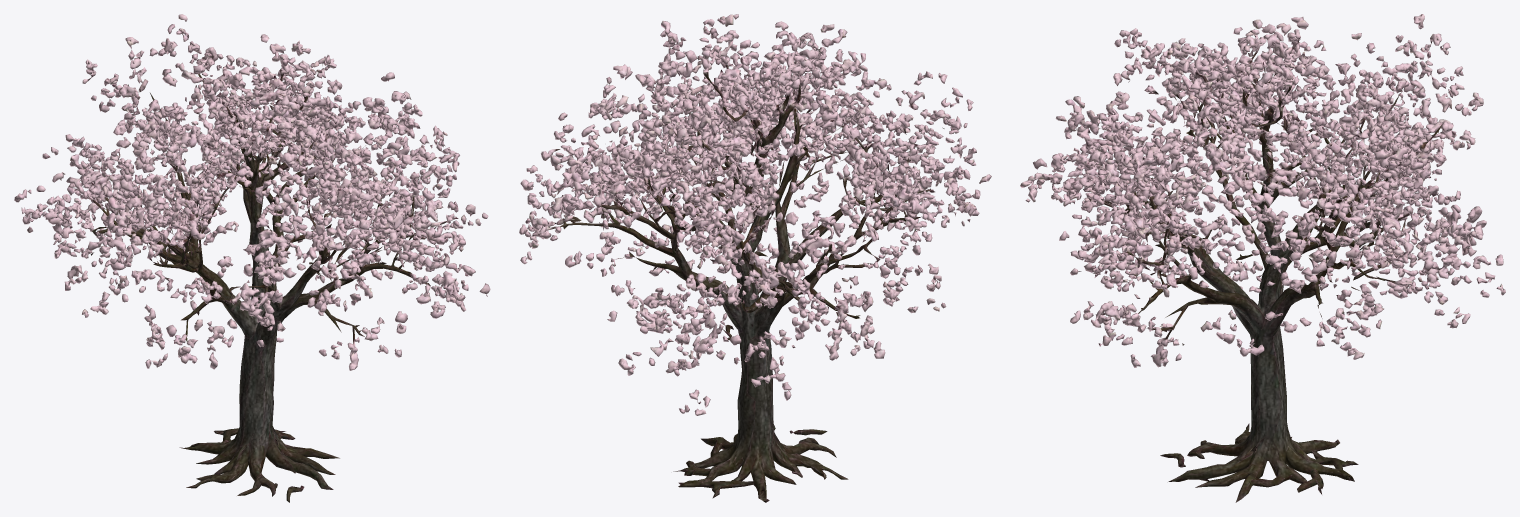
File: sakura_a.0.glb
3 views of the same model, side by side, from view 1: azimuth 30°, elevation 25°; view 2: azimuth 150°, elevation 25°; view 3: azimuth 270°, elevation 25° (orthographic). The views are drawn at different scales.
Parts seen in each view (by area): view 1: geometry_0; view 2: geometry_0; view 3: geometry_0.
Part boxes in pixels (x1,y1,x2,y2): geometry_0: [14, 14, 490, 502]; geometry_0: [519, 14, 991, 502]; geometry_0: [1020, 14, 1505, 502].
Bounding box in the file's own units: 0.9481 × 0.9981 × 0.9786.
Materials: 1 (1 with a texture image).
